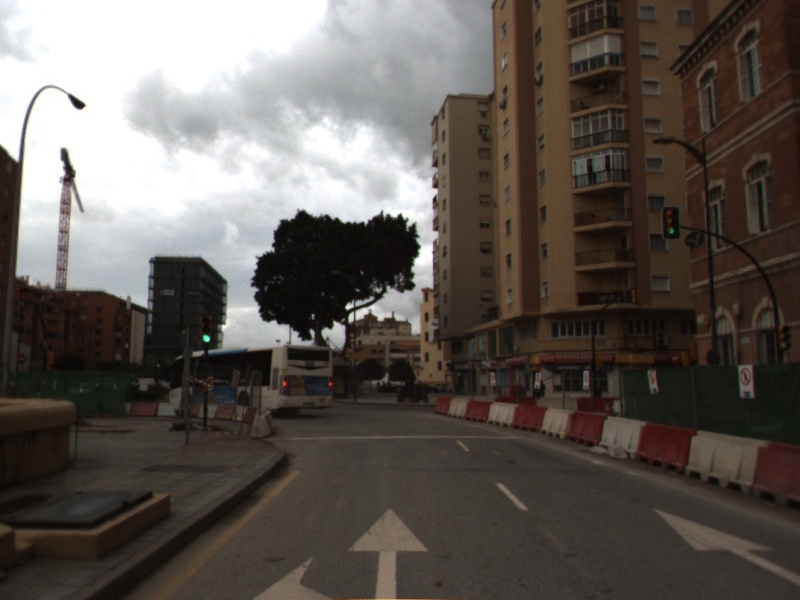STRAIGHT: (648, 503, 800, 588)
STRAIGHT_LEFT: (245, 505, 431, 600)
